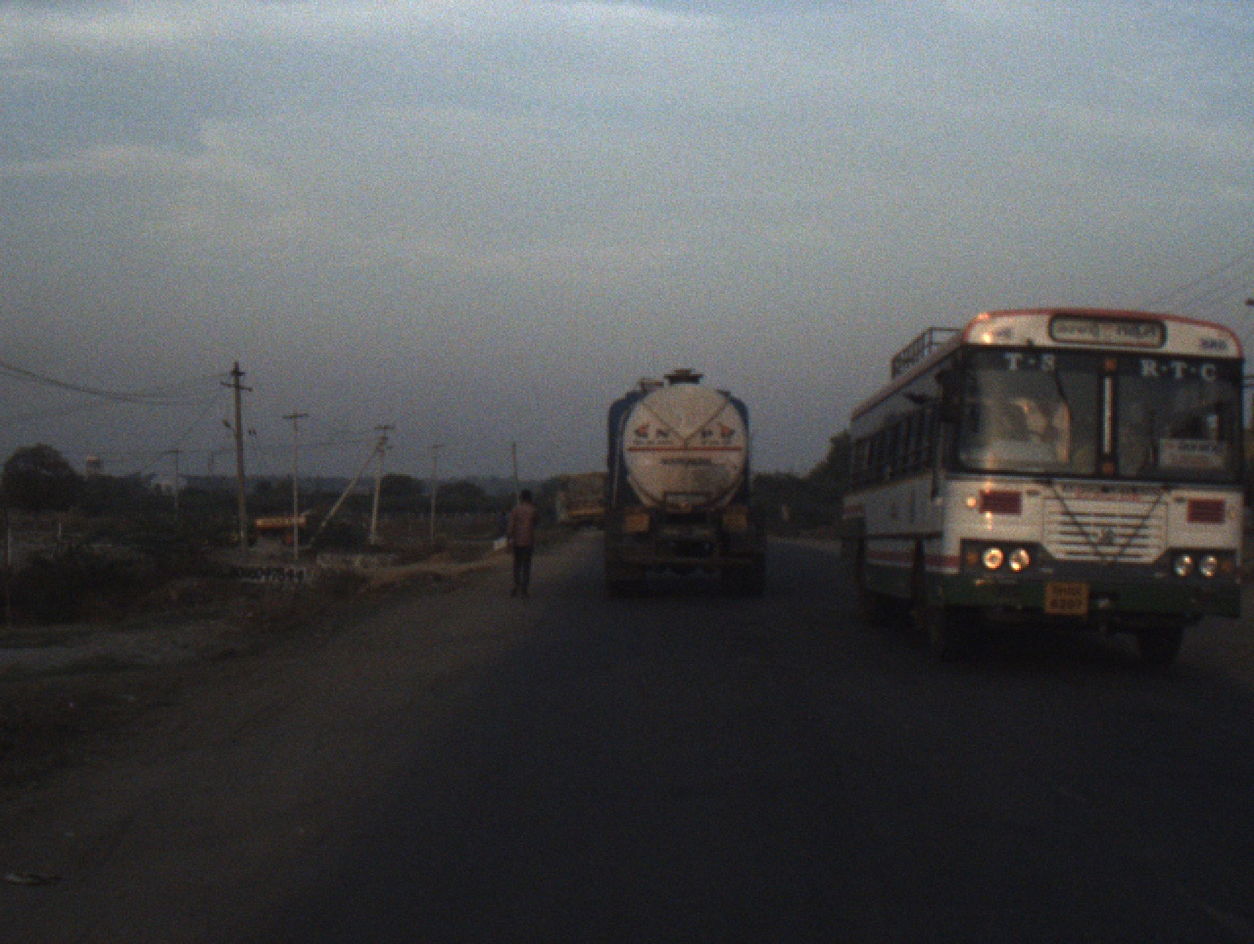bus: (834, 309, 1254, 672)
person: (496, 488, 542, 595)
truck: (589, 363, 773, 606), (556, 468, 610, 539)
vehicle fallback: (221, 509, 333, 545)
